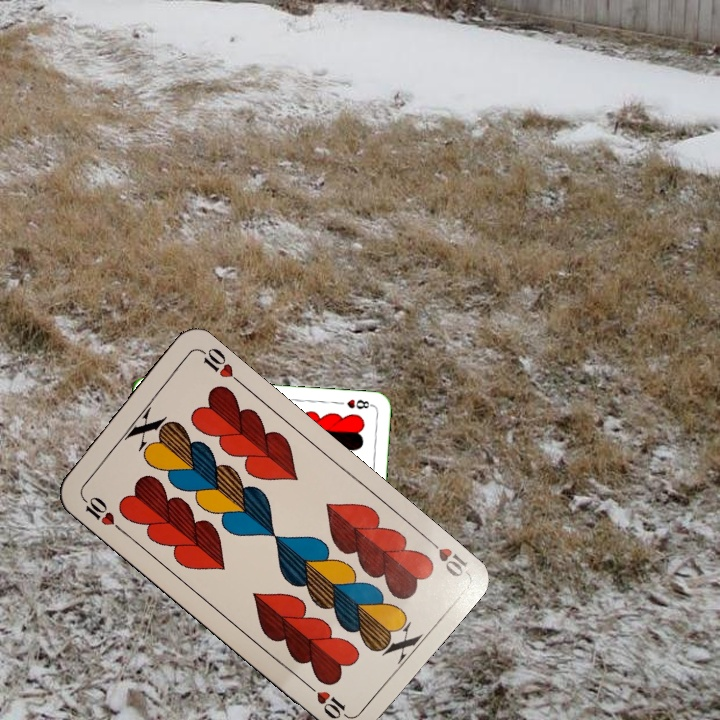H10: (421, 532, 471, 580), (76, 490, 125, 535)
H8: (343, 395, 375, 412)
